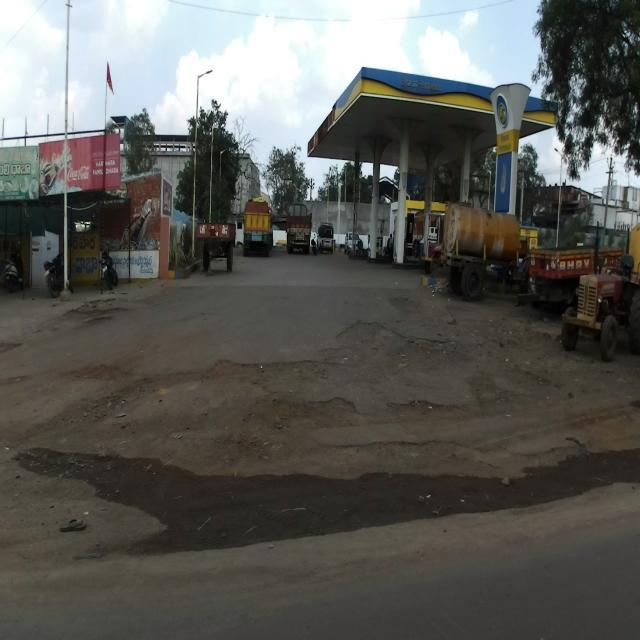Pothole: (5, 280, 640, 631)
